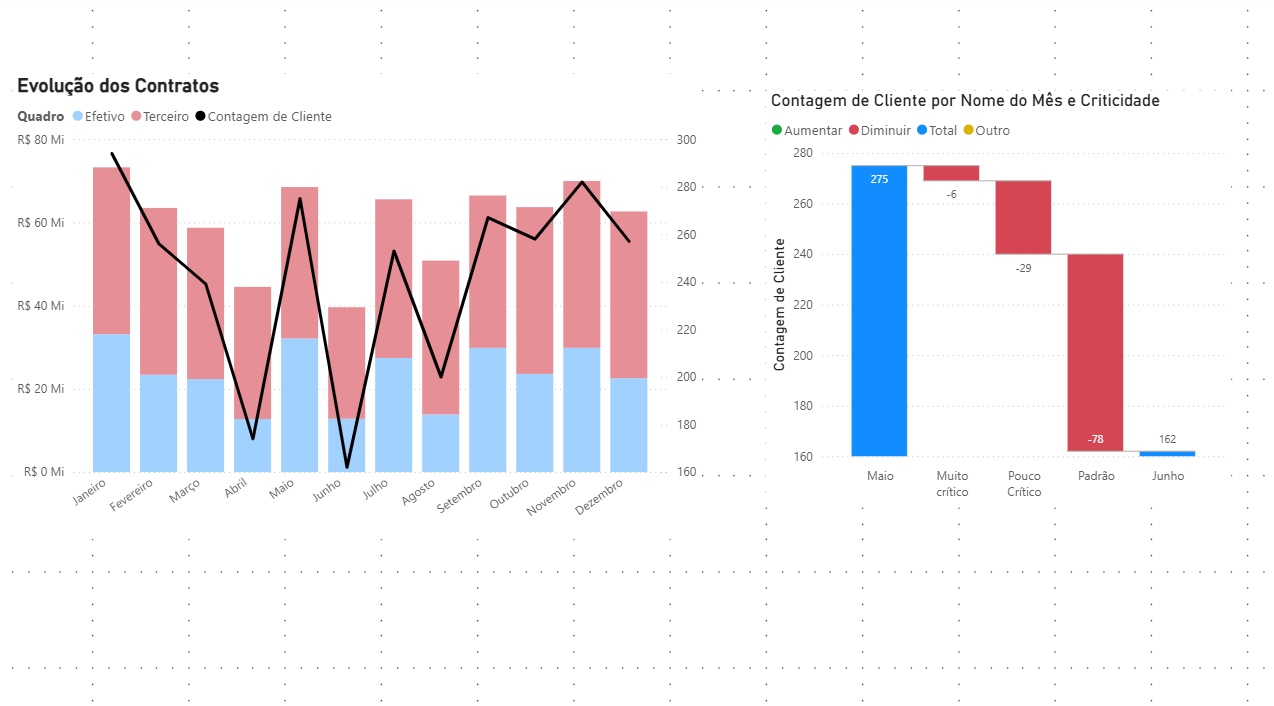

This screenshot's page, from the dashboard's own definition file:
{"tool":"powerbi","page":{"name":"Efetivo x Terceiro + Contagem de Clientes","canvas":[1280,720],"ordinal":2},"visuals":[{"type":"lineStackedColumnComboChart","title":"Evolução dos Contratos","fields":{"Category":["BaseCalendario.Nome do Mês"],"Y":["Sum(Clientes.Valor Contrato Anual)"],"Series":["Hierarquia.Quadro"],"Y2":["CountNonNull(Clientes.Cliente)"]},"box":[16,80,688,464],"z":0},{"type":"waterfallChart","fields":{"Category":["BaseCalendario.Nome do Mês"],"Breakdown":["Clientes.Criticidade"],"Y":["CountNonNull(Clientes.Cliente)"]},"box":[768,96,464,416],"z":1000}]}

Visuals, with their boxes in screenshot pixels (x1, y1, x2, y2), scaled from the page's 1280x720 canvas onto the 1274x706 screenshot:
"Evolução dos Contratos" lineStackedColumnComboChart: <bbox>16, 78, 701, 533</bbox>
waterfallChart - BaseCalendario.Nome do Mês x Clientes.Criticidade: <bbox>764, 94, 1226, 502</bbox>
